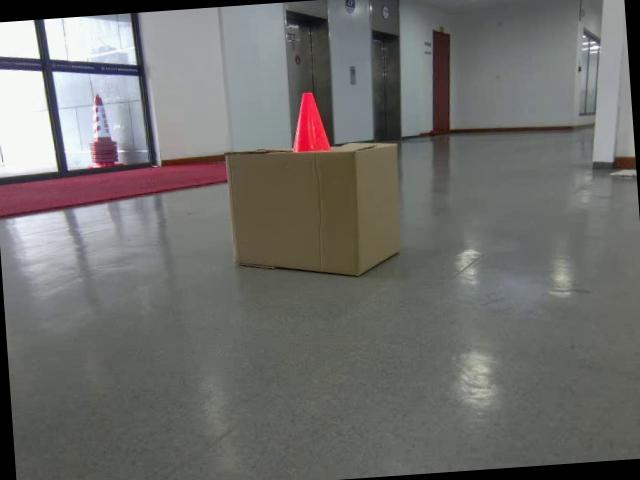orange_barrel: (288, 90, 332, 154)
